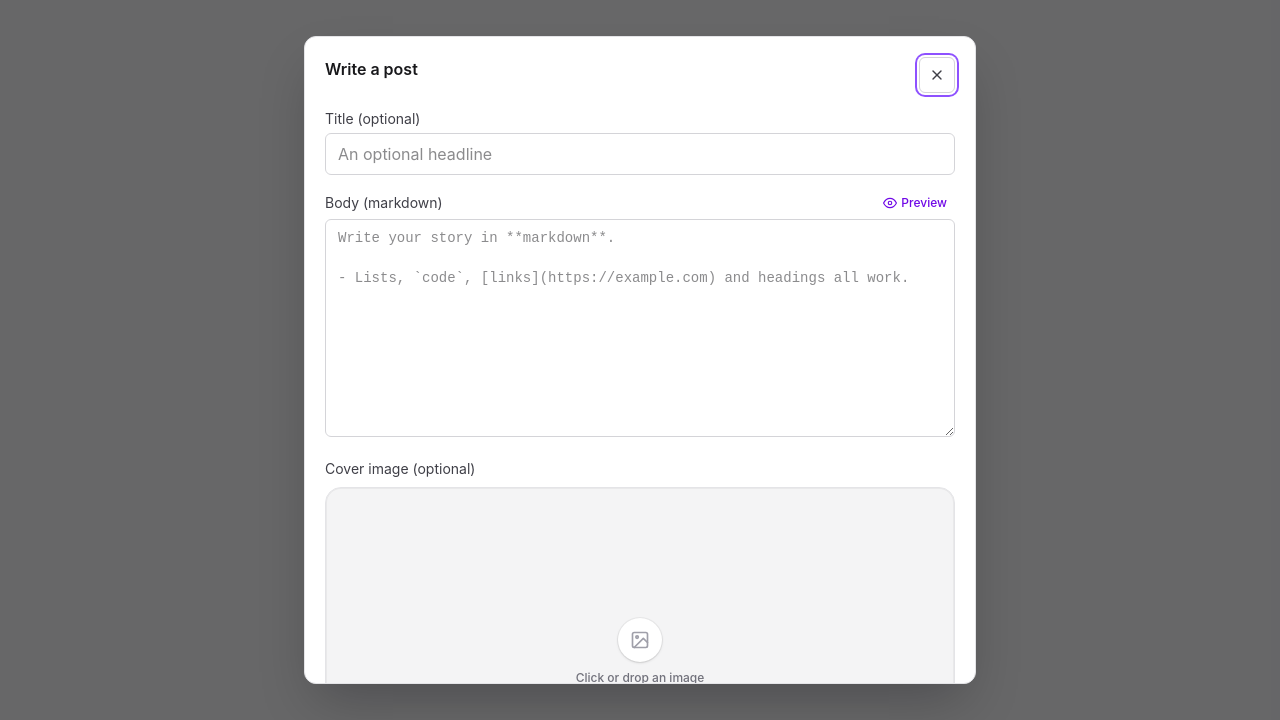
Test case: PostComposerDialog server failures › falls back to generic copy when the rejection carries no message
Type "Hello world" into the text box labelled "Body (markdown)" at (640, 328), box [325,219,955,437]
(page scrolled)
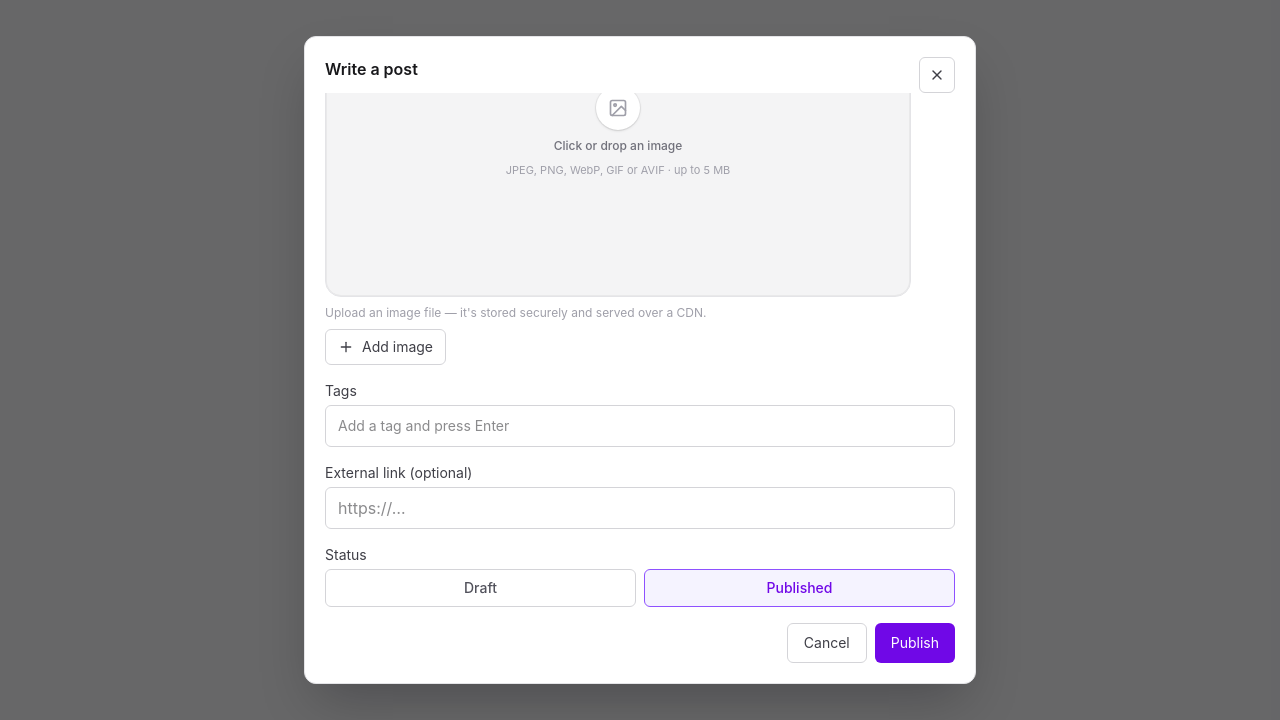
Click the button "Publish" at (915, 643), box [875,623,955,663]
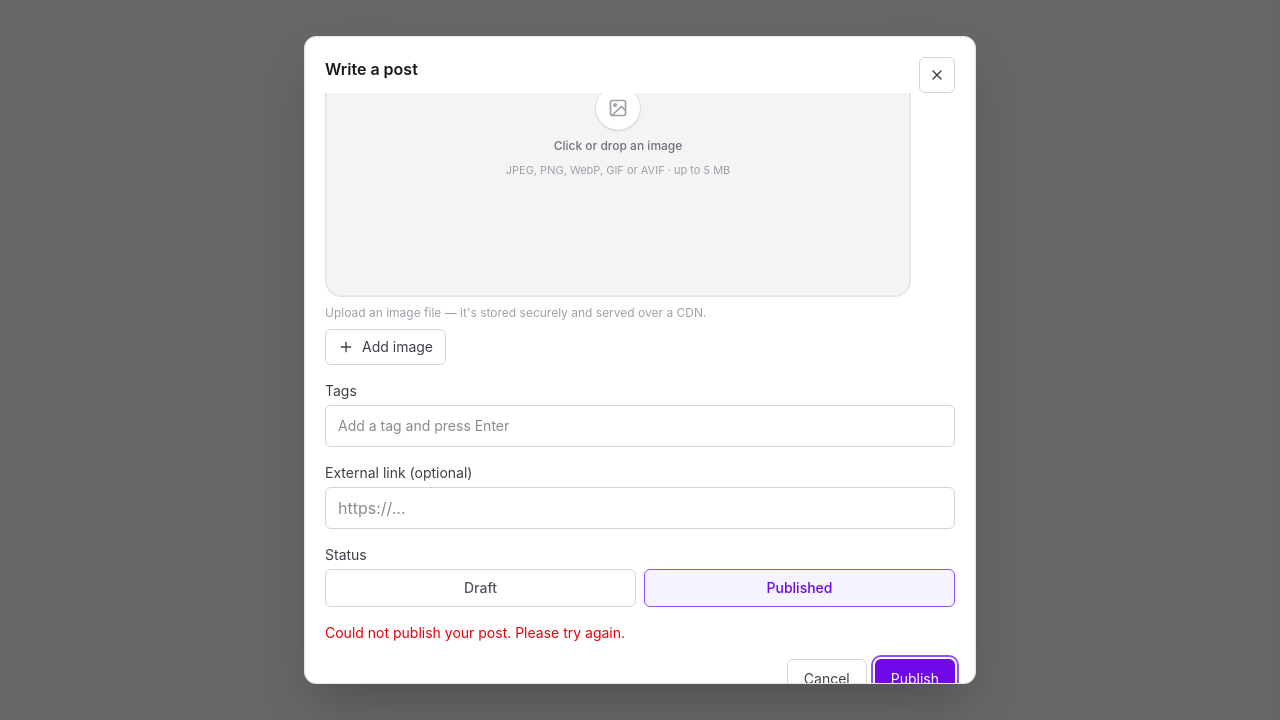
Check: the text "Could not publish your post. Please try again." is shown, box [325,624,625,641]
